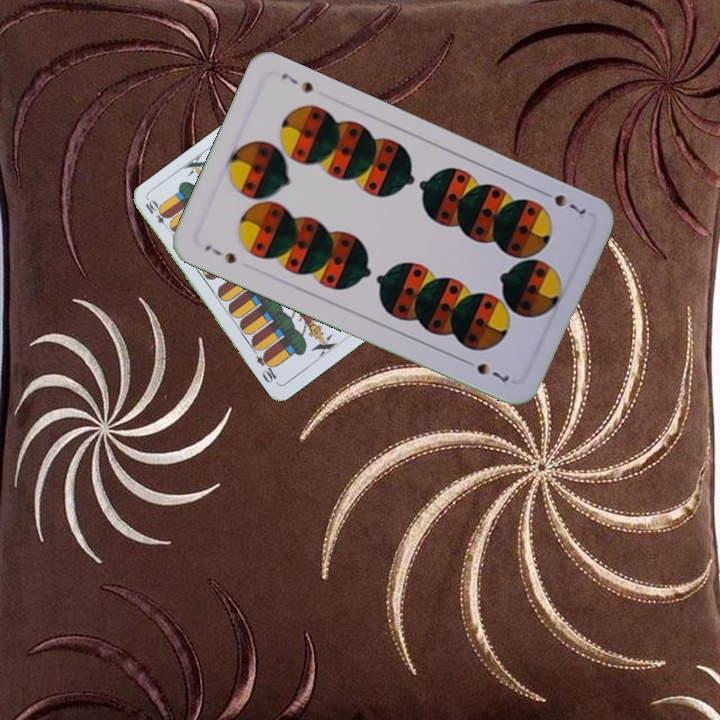E10: (141, 196, 173, 232)
S7: (536, 186, 589, 222), (200, 240, 239, 267)
